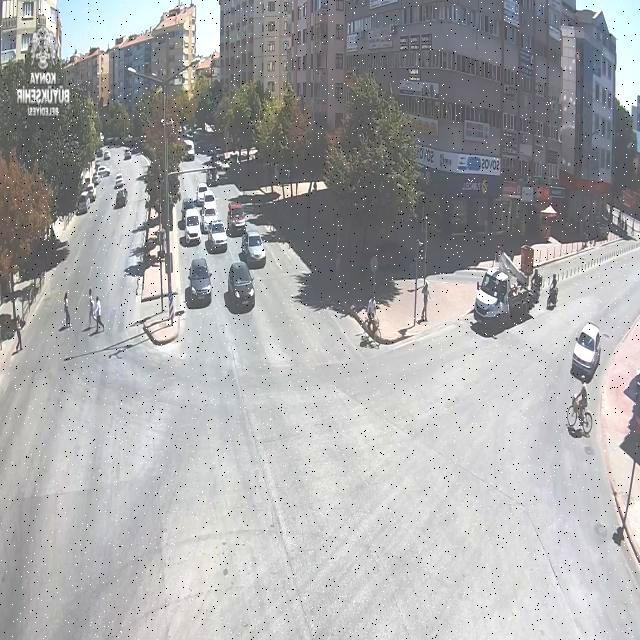Car: (571, 322, 601, 379), (228, 262, 255, 307), (188, 258, 213, 304), (242, 229, 266, 264), (206, 219, 228, 252), (226, 202, 248, 234), (184, 207, 202, 244), (202, 208, 220, 234), (182, 197, 198, 222), (196, 182, 210, 206), (202, 191, 216, 211), (114, 188, 128, 207), (78, 194, 90, 214), (183, 140, 195, 160), (97, 166, 110, 180), (214, 160, 227, 174), (85, 183, 96, 199), (114, 174, 125, 188), (93, 170, 103, 184), (124, 150, 132, 160), (103, 150, 111, 160)
Cycle: (565, 374, 594, 432), (545, 267, 560, 312), (530, 267, 544, 306)
Truck: (474, 247, 532, 321)
